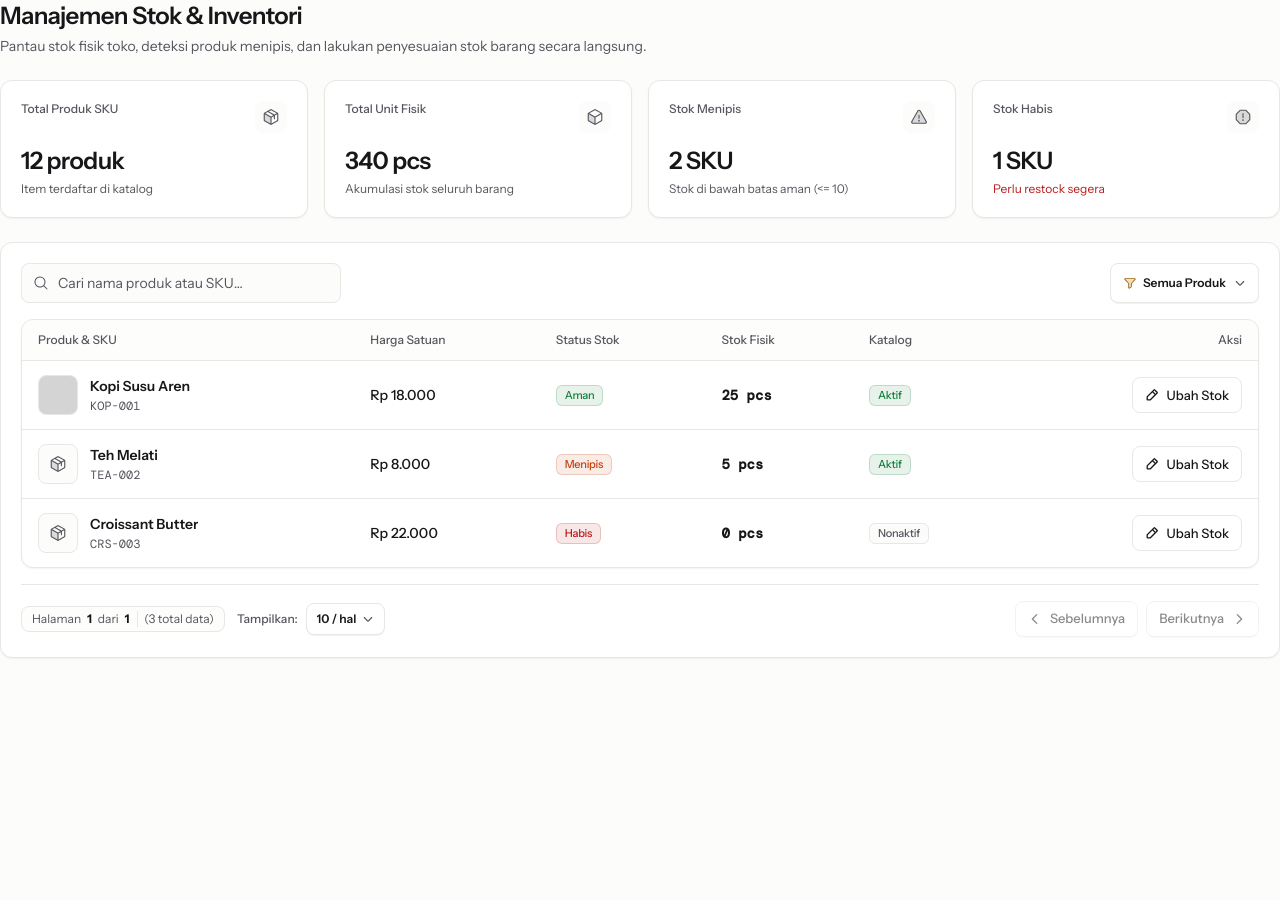
InventoryView › handles mutation rejection and displays error banner in modal
The image size is (1280, 900).
Click the button "Ubah Stok" in the row of "Kopi Susu Aren".
click(1187, 395)  # box [1132,377,1242,413]
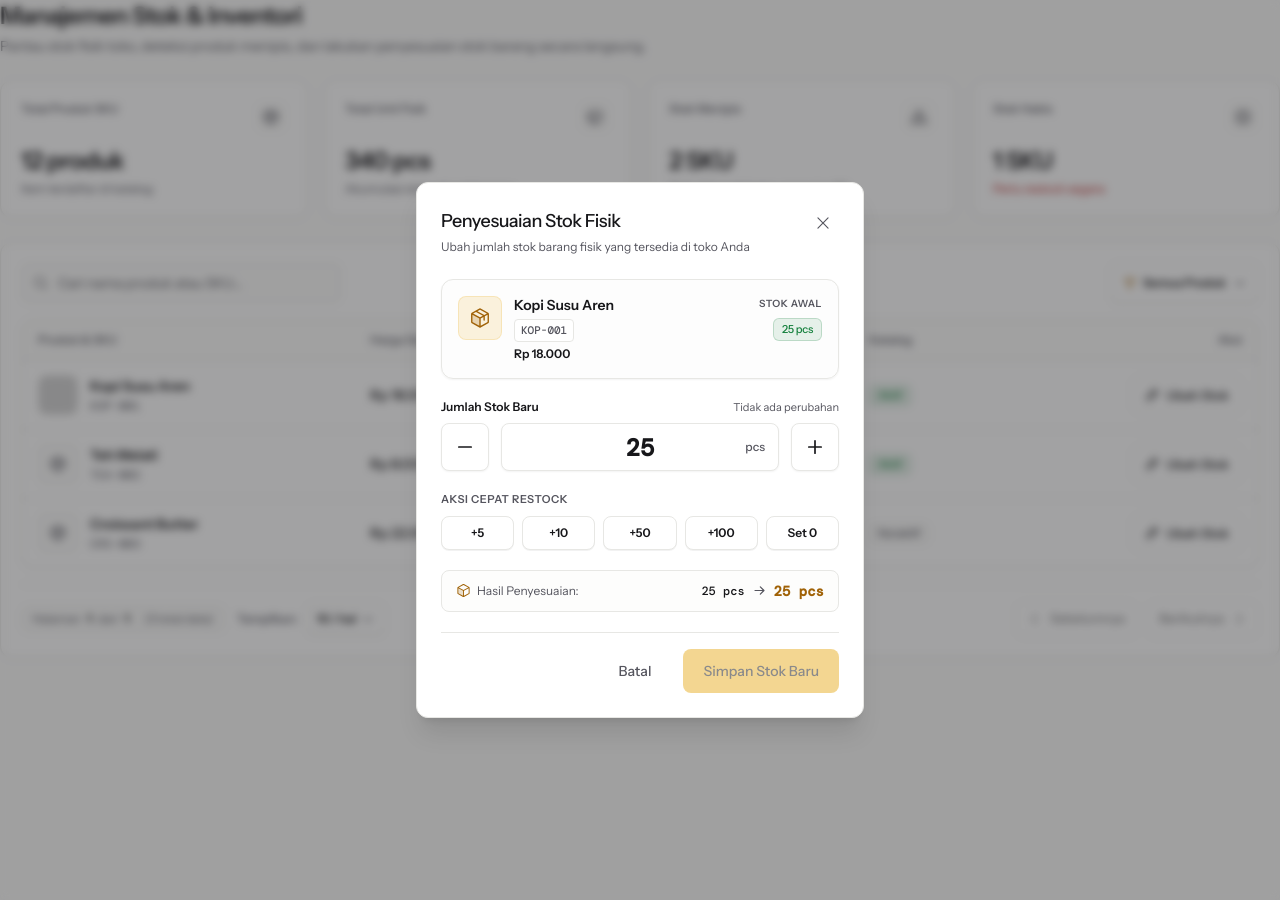
Click the button "+10".
click(559, 533)  # box [522,516,595,550]
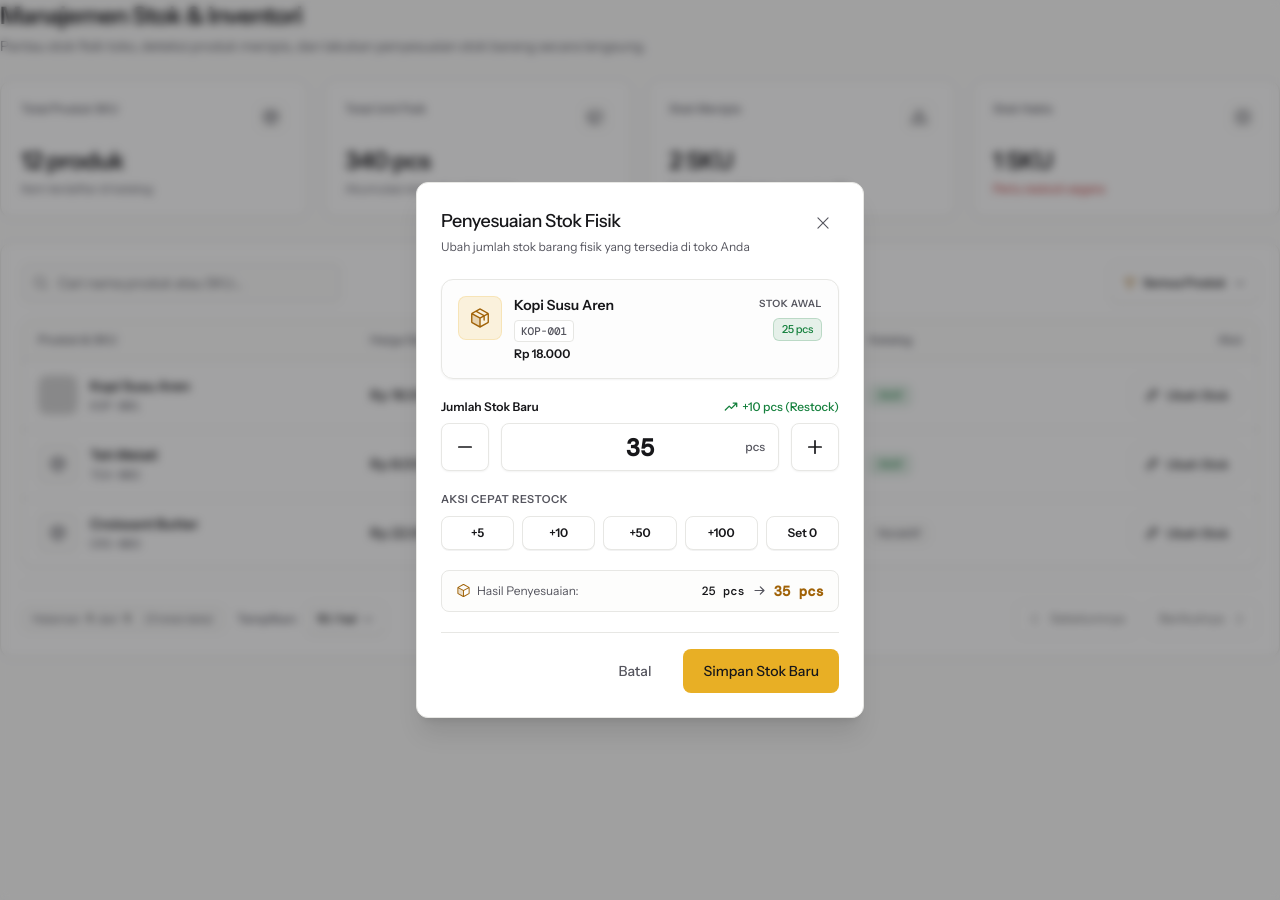
Click the button "Simpan Stok Baru".
click(761, 671)  # box [683,649,839,693]
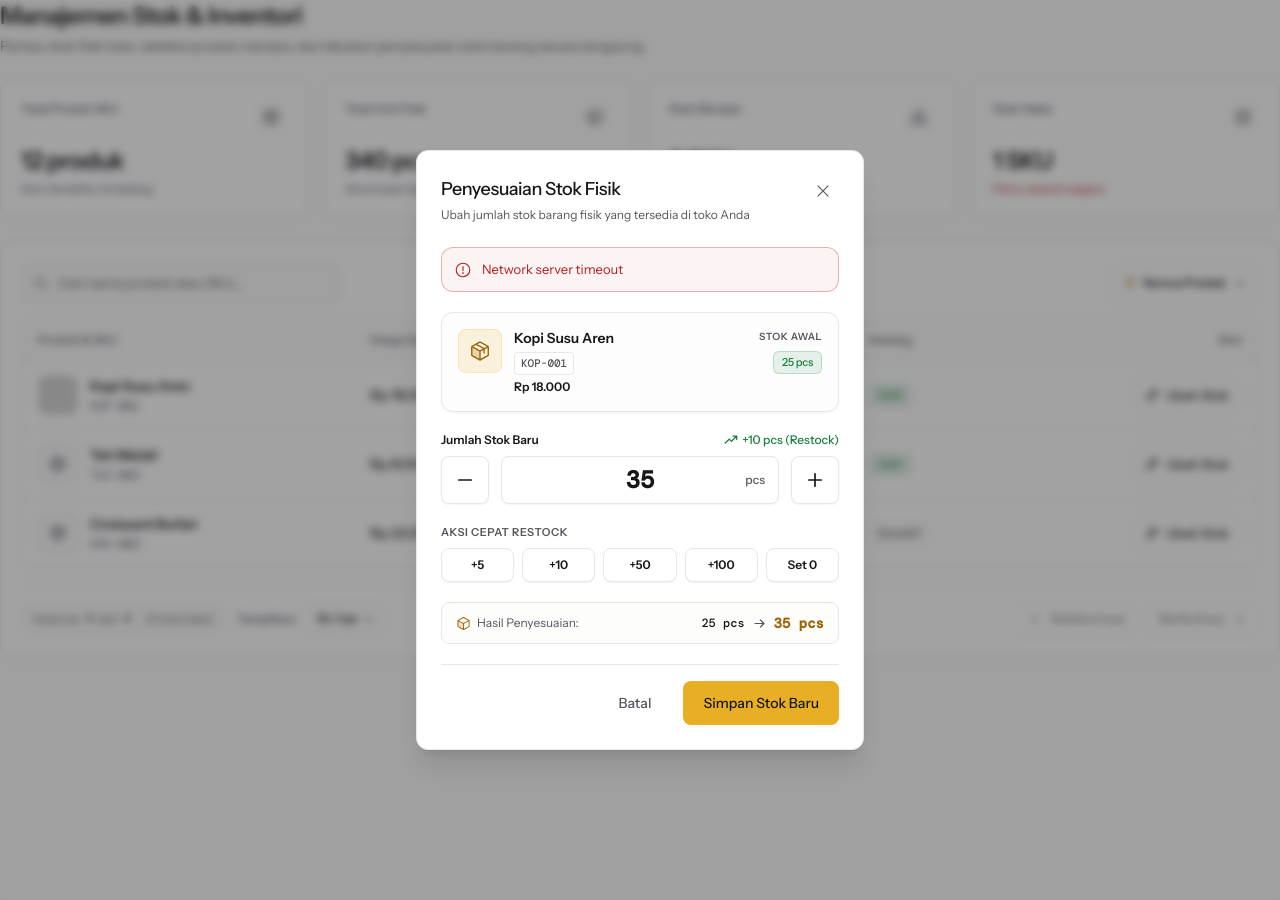
Check: the text "Network server timeout" is shown, box [482,260,623,279]
